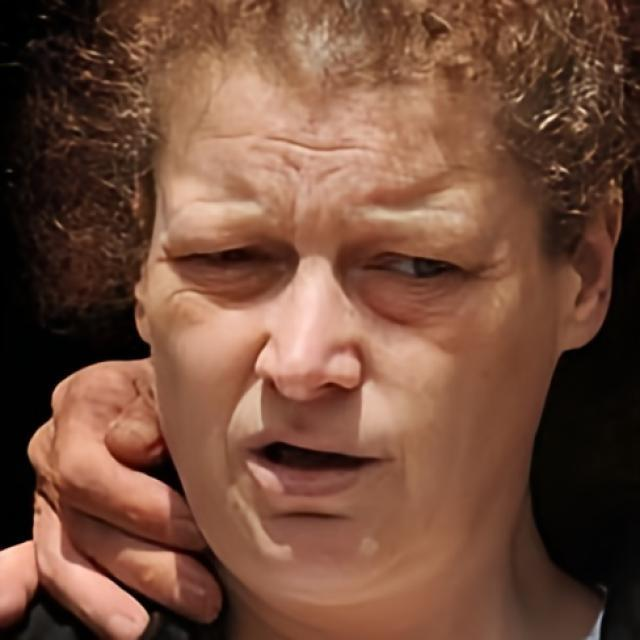disgust: (142, 67, 560, 611)
